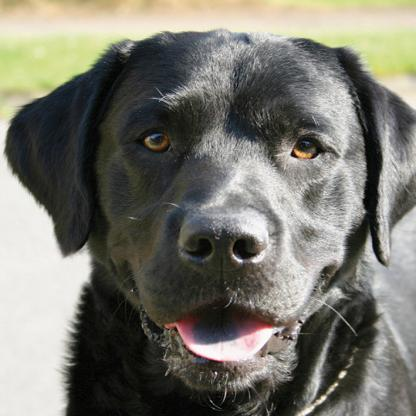Labarador Retriever: (4, 32, 416, 416)
